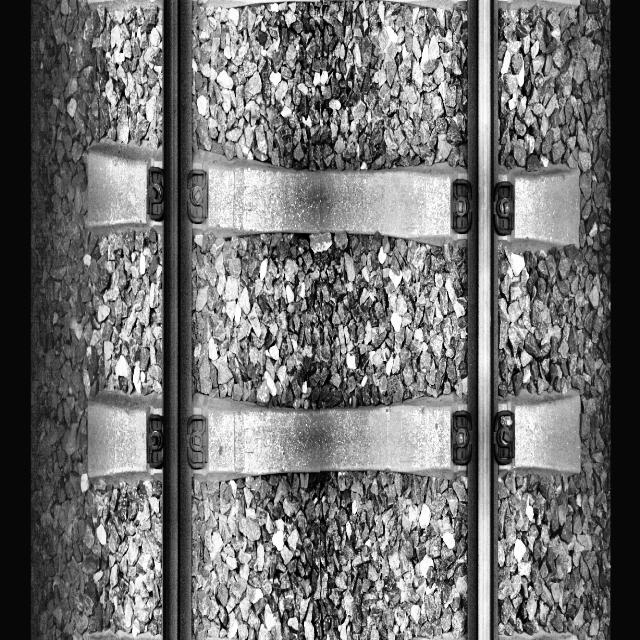Clips: (450, 409, 473, 467), (492, 410, 516, 465), (492, 180, 515, 236), (450, 178, 472, 234), (188, 168, 209, 224), (187, 416, 208, 469), (146, 414, 164, 470), (148, 166, 164, 222)
Sleepers: (88, 150, 580, 250), (86, 385, 582, 480)
